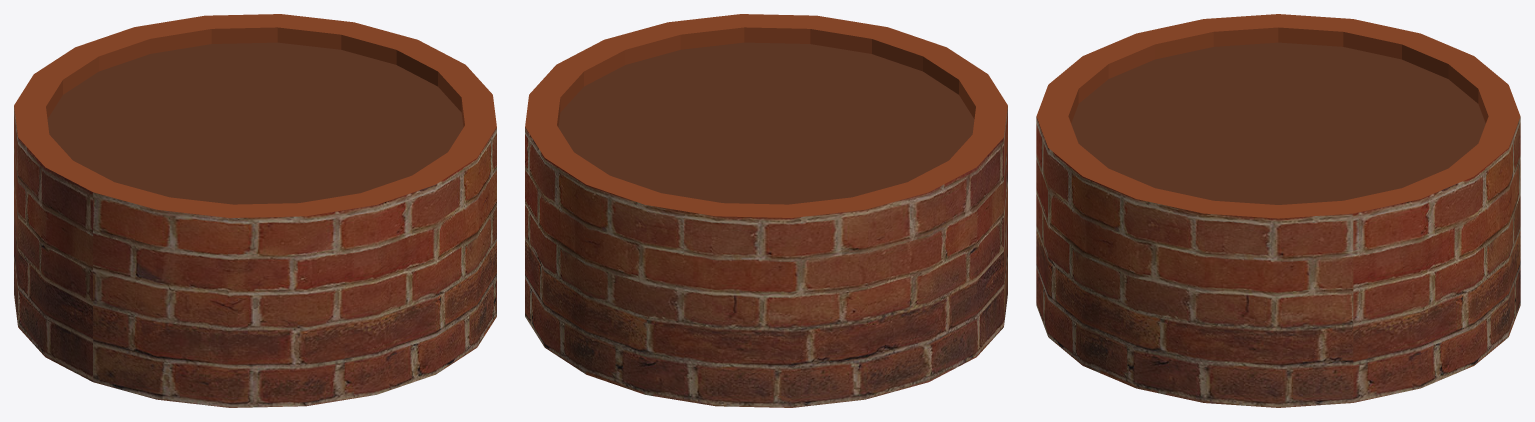
3 renders of one model, left to right at view 1: azimuth 30°, elevation 25°; view 2: azimuth 150°, elevation 25°; view 3: azimuth 270°, elevation 25°, orthographic.
Visible parts, largest first — view 1: pCylinder1; view 2: pCylinder1; view 3: pCylinder1.
Part boxes in pixels (<box>): pCylinder1: <box>14,14,496,407</box>; pCylinder1: <box>525,14,1007,407</box>; pCylinder1: <box>1036,14,1520,407</box>.
Bounding box in the file's own units: 2.3 × 0.9946 × 2.3.
Materials: 4 (1 with a texture image).
